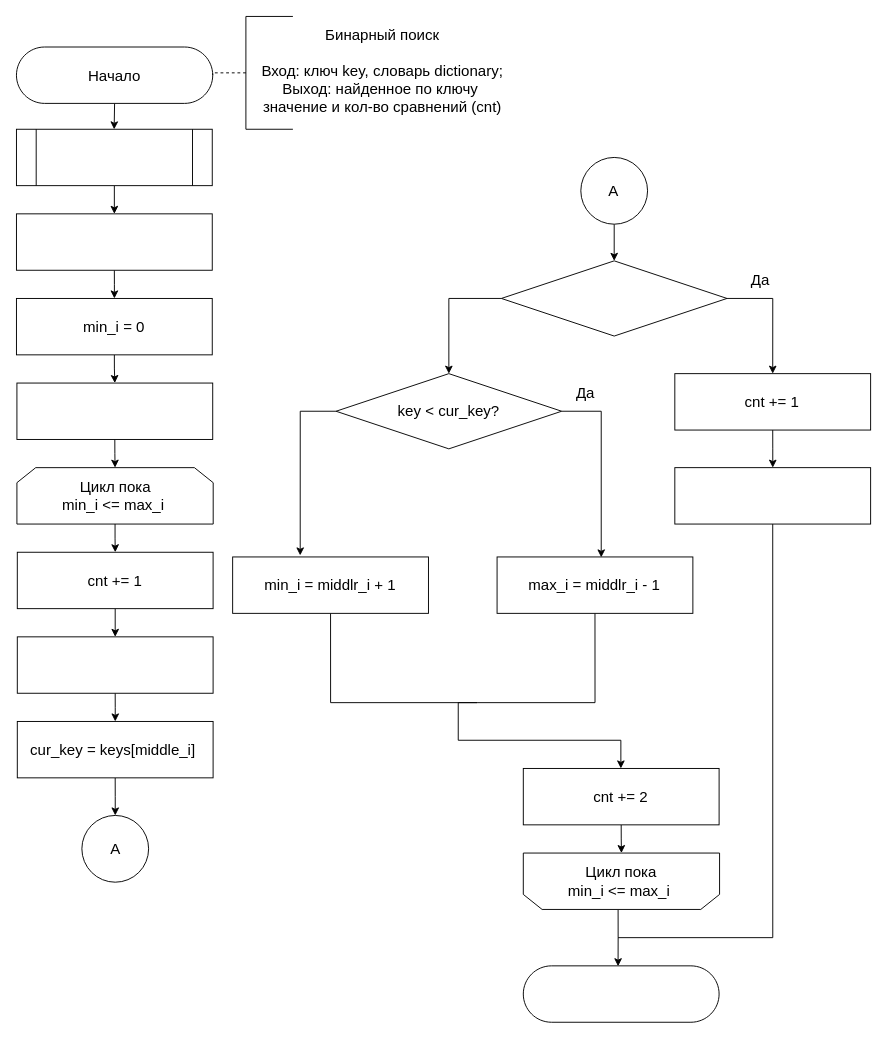
The diagram is 887 pixels wide and 1039 high, and some of its shapes have lost their labels. Here are the shapes that lost their labels. From the top down, the box of each, then its label:
(16, 128, 212, 186): Получить массив ключей keys из словаря
(16, 213, 212, 270): cnt = 0
(500, 260, 727, 336): cur_key == key?
(16, 382, 213, 439): max_i = len(keys)
(674, 467, 871, 524): вернуть dictionary[cur_key] и cnt
(16, 636, 213, 693): middle_i = (max_i + min_i) // 2
(522, 965, 719, 1022): Конец
